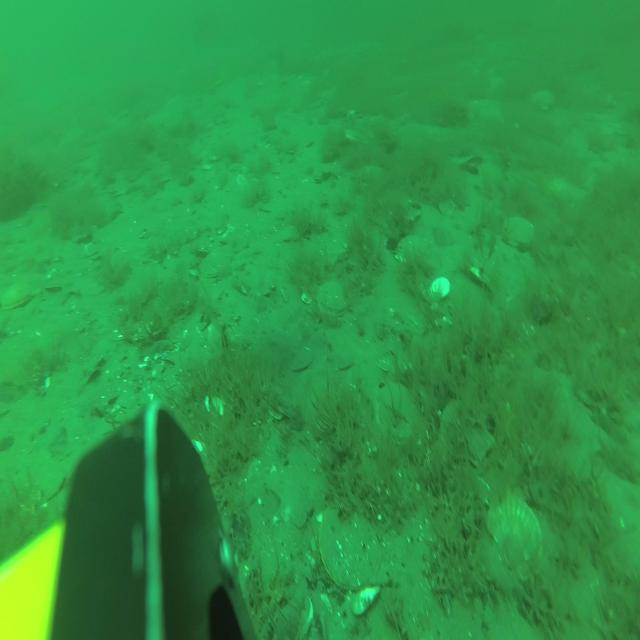scallop: (318, 502, 386, 594), (482, 489, 545, 579), (440, 392, 497, 467), (378, 186, 424, 225), (316, 276, 352, 319), (2, 278, 42, 315), (501, 214, 538, 250), (200, 242, 235, 280), (530, 87, 558, 112)
